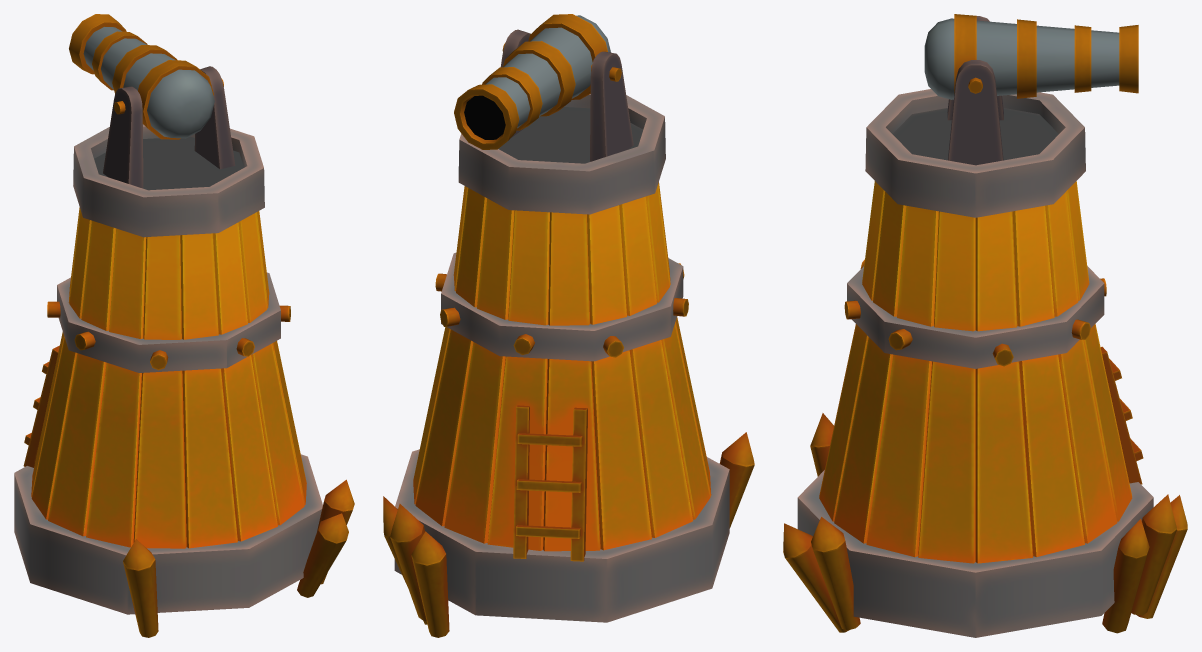
The model's file is basic tower.fbx.
The picture shows the model from 3 angles, left to right: view 1: azimuth 30°, elevation 25°; view 2: azimuth 150°, elevation 25°; view 3: azimuth 270°, elevation 25°; orthographic projection. The views are drawn at different scales.
Visible parts, largest first — view 1: Cube.004_Baked, canon_Baked, CanonBase.001_Baked; view 2: Cube.004_Baked, canon_Baked, CanonBase.001_Baked; view 3: Cube.004_Baked, canon_Baked, CanonBase.001_Baked.
Part boxes in pixels (box(x1,y1,x2,y2)): Cube.004_Baked: box(14, 124, 354, 637); canon_Baked: box(69, 14, 223, 139); CanonBase.001_Baked: box(103, 66, 235, 188); Cube.004_Baked: box(383, 94, 754, 637); canon_Baked: box(454, 14, 621, 149); CanonBase.001_Baked: box(500, 29, 633, 161); Cube.004_Baked: box(783, 89, 1187, 637); canon_Baked: box(924, 14, 1138, 99); CanonBase.001_Baked: box(947, 16, 1003, 165).
Size of the model in its own units: 74.11 by 133 by 84.23.
Materials: 1 (1 with a texture image).
